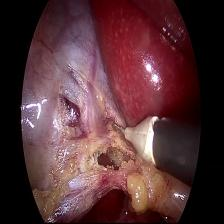Hook: (112, 114, 165, 168)
